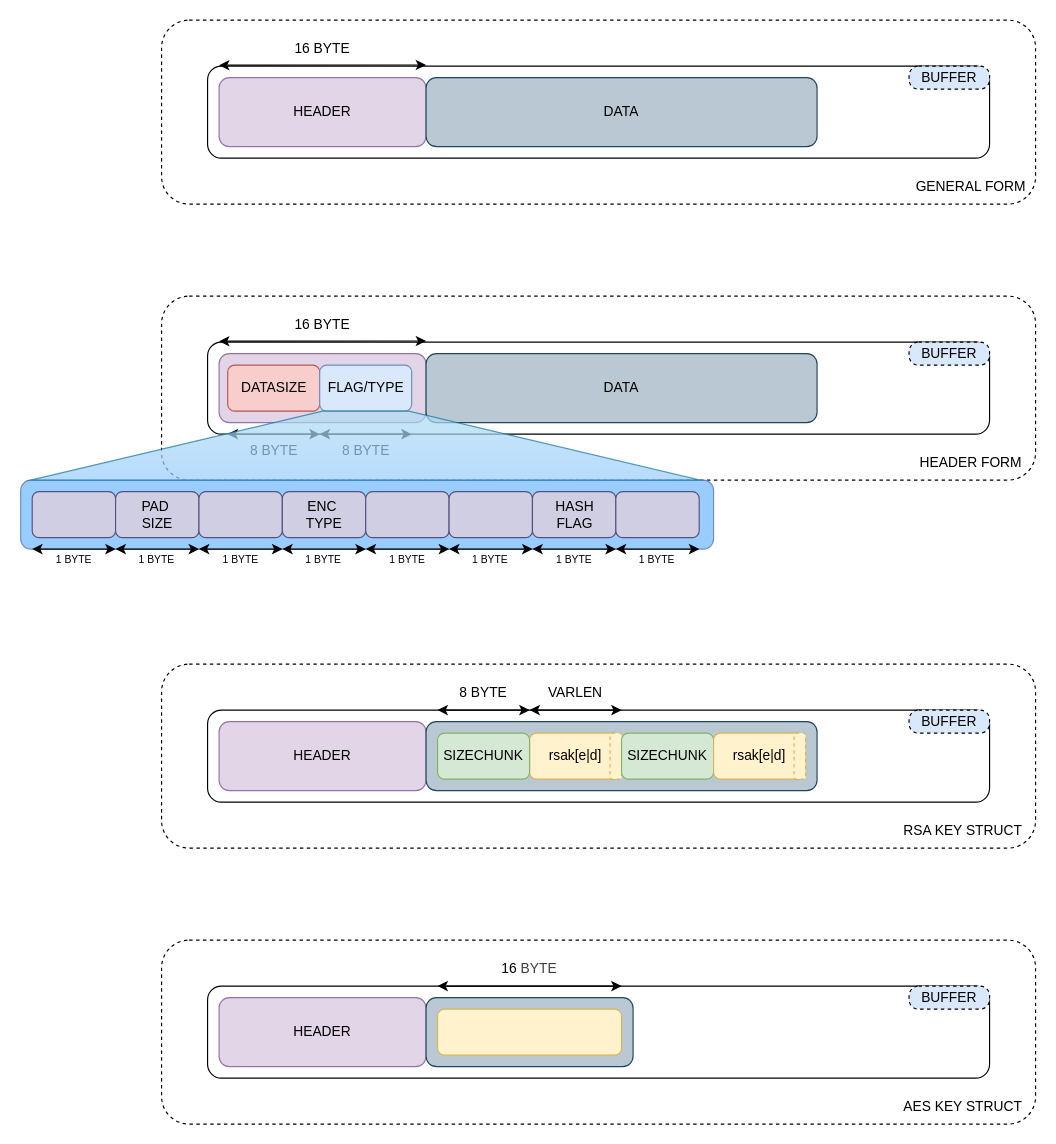
Image size: 1056x1144. Some labels were removed from this diagram. The shapes that lost their labels are listed below. From the top down, each one's centre as x and y in pixels, then its label:
At pixel 73 514: "PAD FLAG".
At pixel 240 514: "ENC FLAG".
At pixel 407 514: "KEY FLAG".
At pixel 490 514: "KEY TYPE".
At pixel 657 514: "HASH TYPE".
At pixel 529 1031: "aesk".
